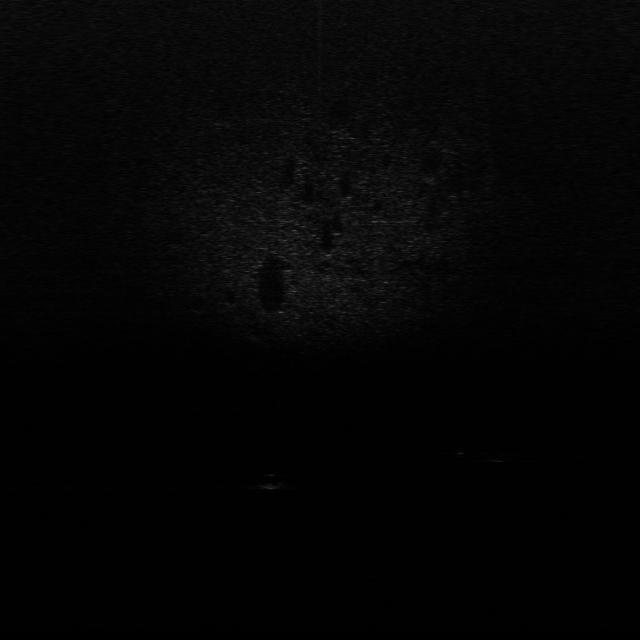ball: (257, 468, 288, 493)
human body: (440, 444, 534, 467)
